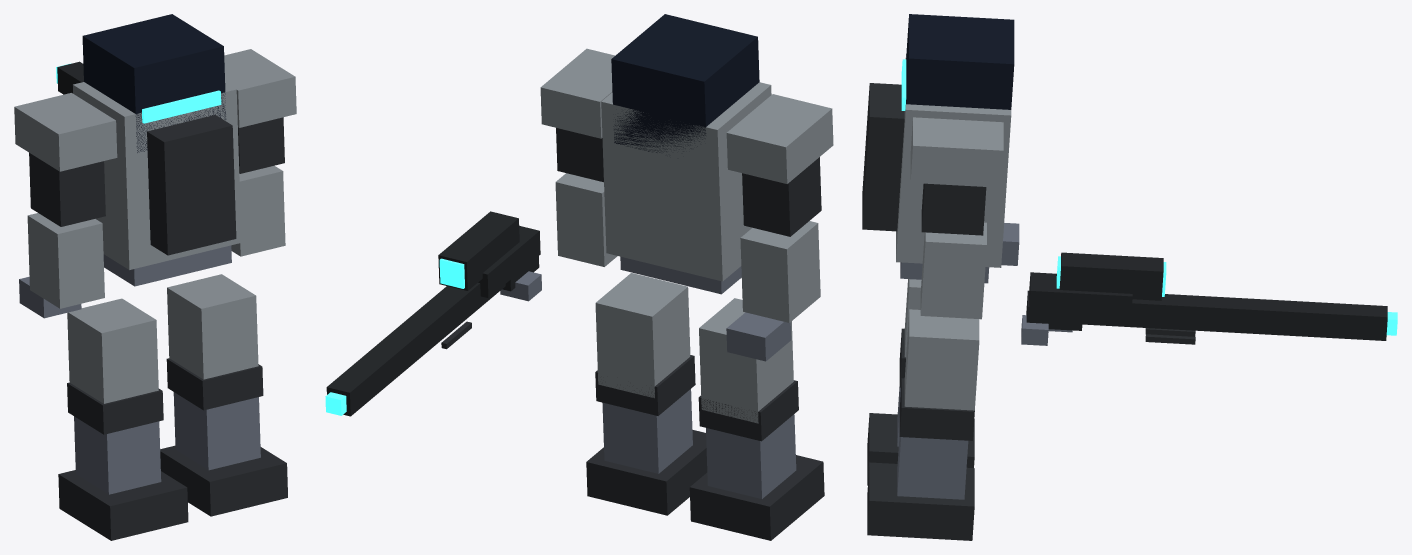
File: sniper_bot.glb
3 views of the same model, side by side, from view 1: azimuth 30°, elevation 25°; view 2: azimuth 150°, elevation 25°; view 3: azimuth 270°, elevation 25° (orthographic). The views are drawn at different scales.
Size of the model in its own units: 2.18 by 3.47 by 3.66.
